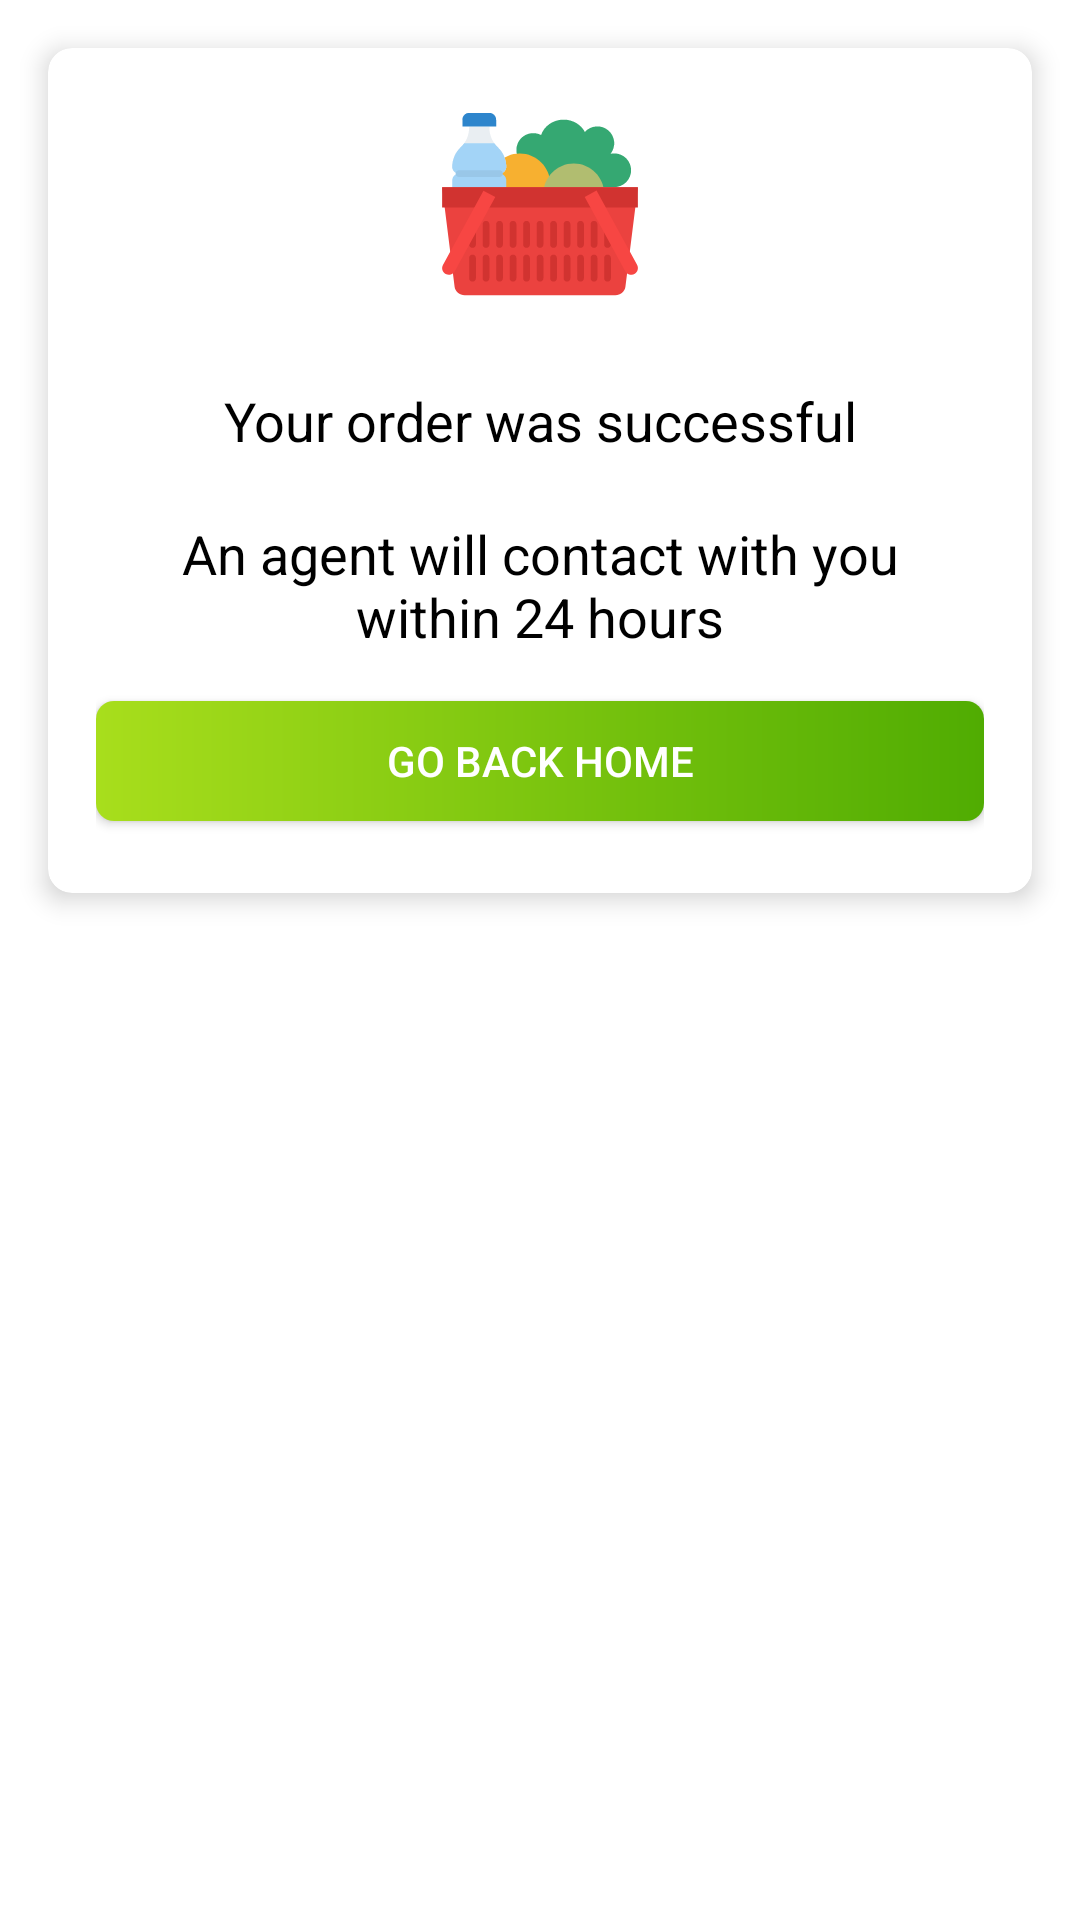

Where to tap for icons on this 1080x1920 app screen, as (x=x, y=y):
shopping: (x=540, y=204)
